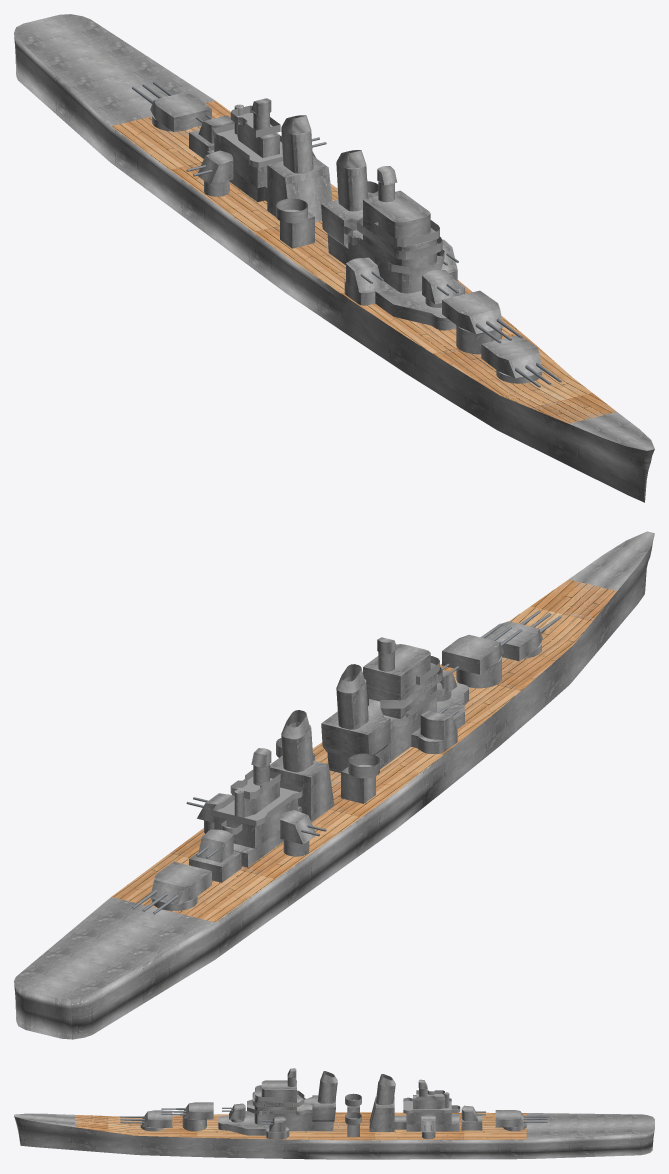
File: Baltimore.fbx
3 renders of one model, top to bottom at view 1: azimuth 30°, elevation 25°; view 2: azimuth 150°, elevation 25°; view 3: azimuth 270°, elevation 25°, orthographic. The views are drawn at different scales.
Parts seen in each view (by area): view 1: pCube37; view 2: pCube37; view 3: pCube37.
Boxes of the visible parts, x1,y1,x2,y2 form: pCube37: (14, 14, 654, 502); pCube37: (14, 531, 654, 1039); pCube37: (14, 1068, 654, 1159).
Bounding box in the file's own units: 2.57 × 2.67 × 20.5.
4 materials, 3 textured.
